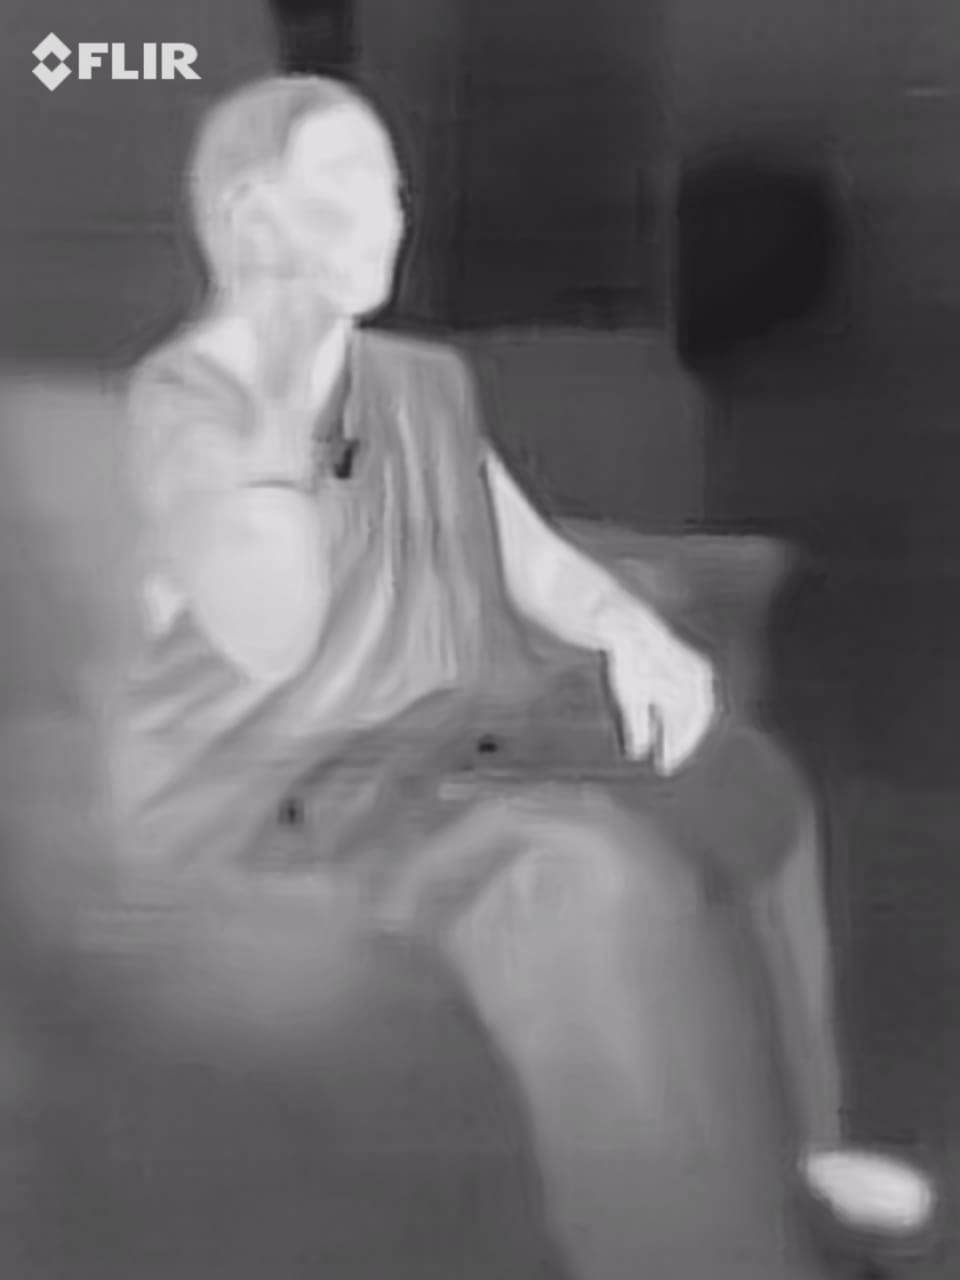head: (174, 65, 438, 346)
